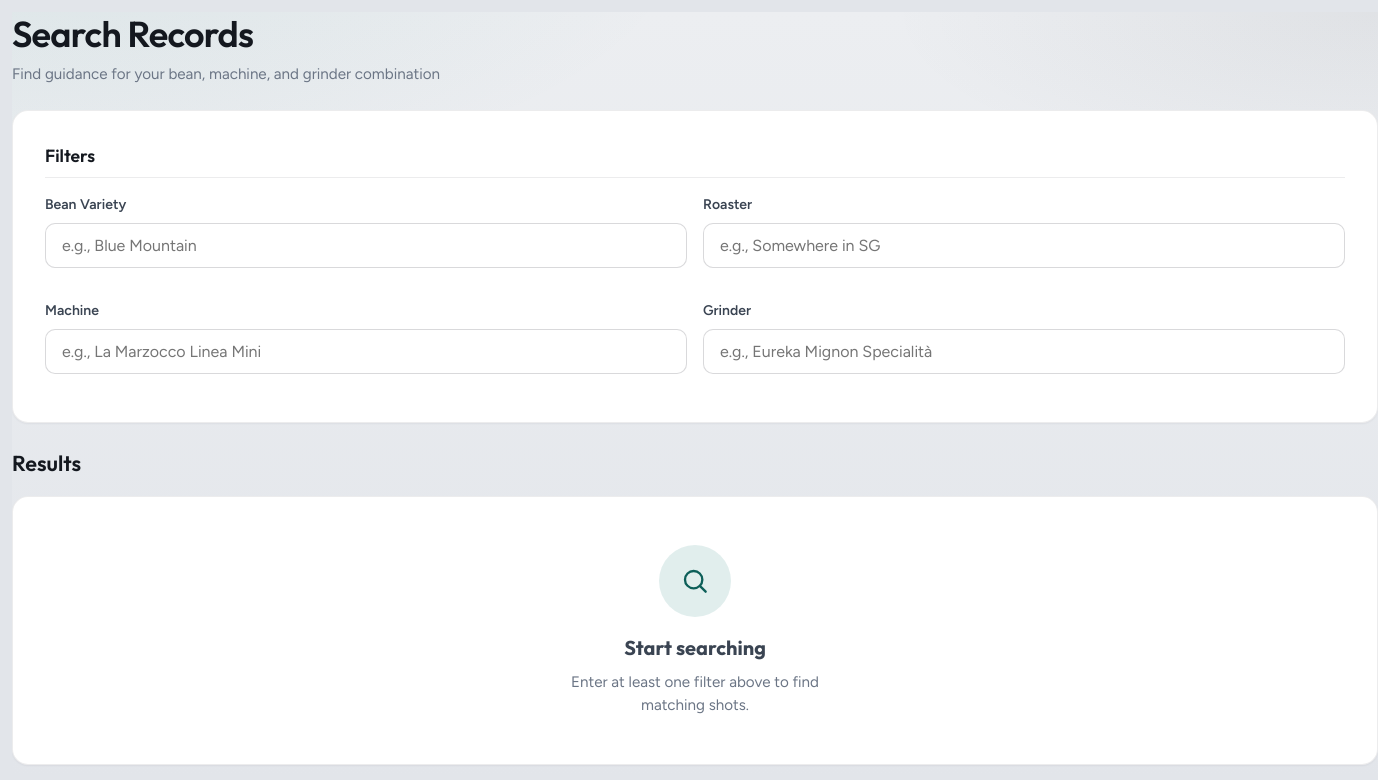
it: Search › should show no results message when search returns empty
Type "NonExistent" into the field with placeholder "e.g., La Marzocco Linea Mini" at (366,352), box 45,329 -> 687,374
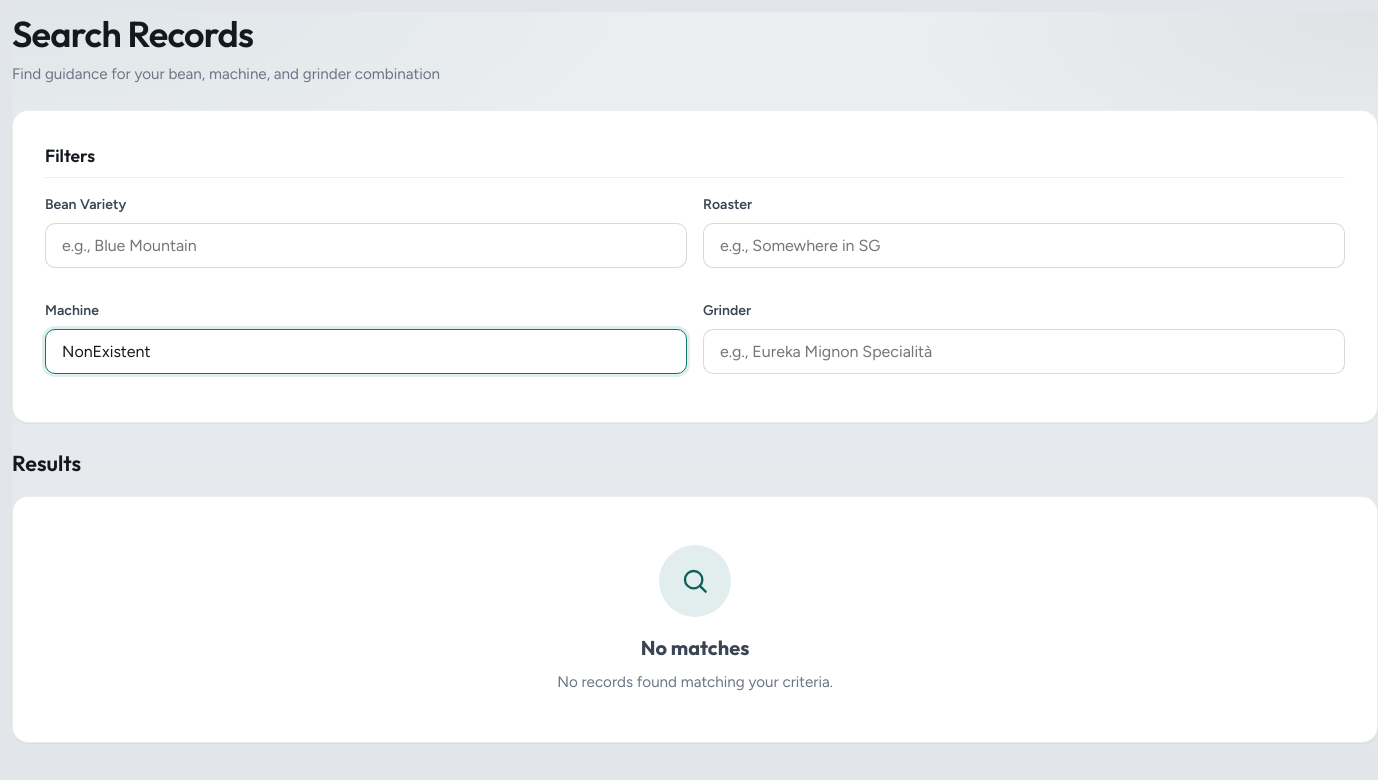
expect the text "No records found matching your criteria." is shown: met, box 555,671 -> 835,694
